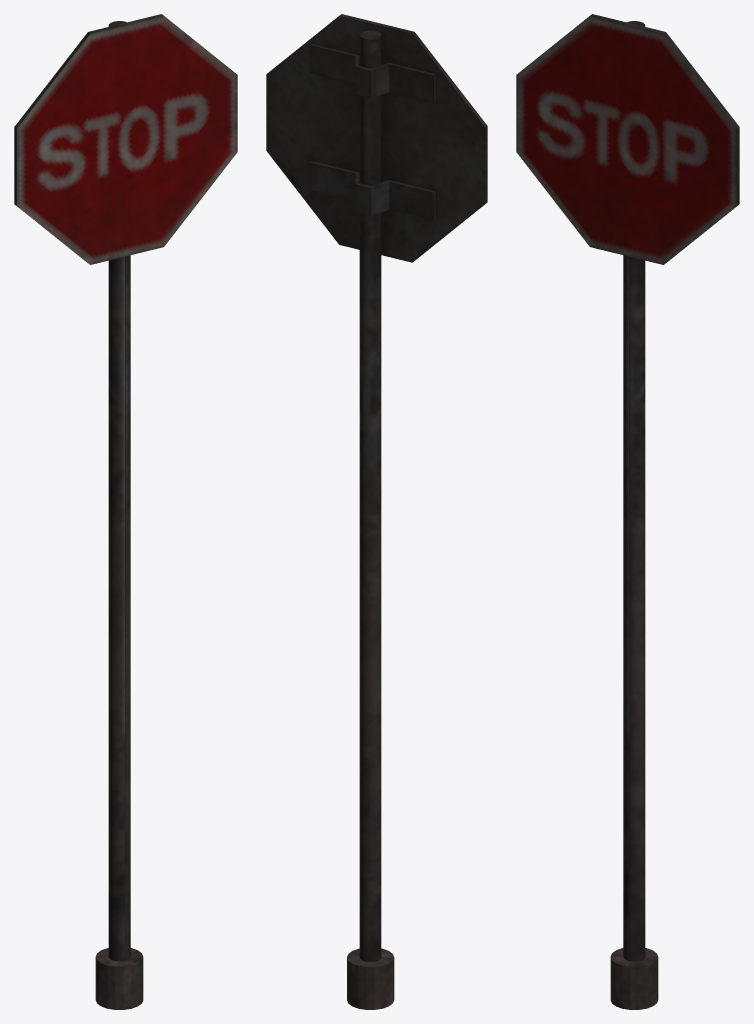
Rendered from ROAD SIGN 3.fbx.
3 views of the same model, side by side, from view 1: azimuth 30°, elevation 25°; view 2: azimuth 150°, elevation 25°; view 3: azimuth 330°, elevation 25° (orthographic).
Visible parts, largest first — view 1: ROAD SIGN 3; view 2: ROAD SIGN 3; view 3: ROAD SIGN 3.
Part boxes in pixels (x1=…): ROAD SIGN 3: x1=14, y1=14, x2=237, y2=1009; ROAD SIGN 3: x1=266, y1=14, x2=487, y2=1009; ROAD SIGN 3: x1=516, y1=14, x2=739, y2=1009.
Bounding box in the file's own units: 80.96 × 343 × 15.15.
